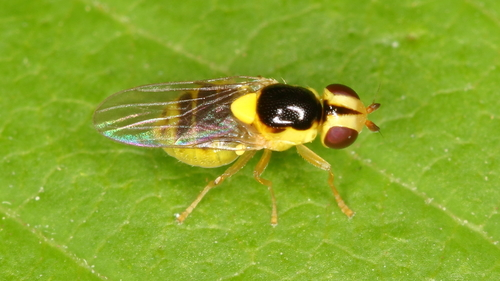Chloropidae: (91, 72, 386, 228)
